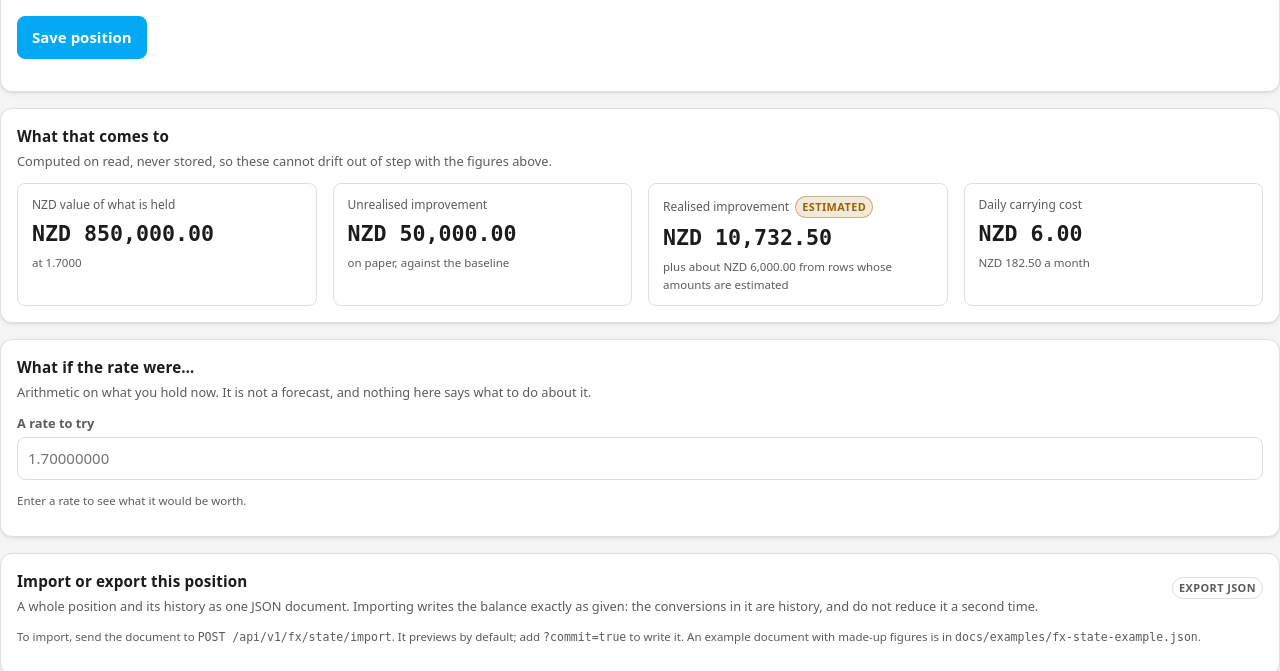
the rate what-if › multiplies exactly, without going through a float
(page scrolled)
Type "1.7504" into the field labelled "A rate to try" at (640, 458), box [17,437,1263,480]
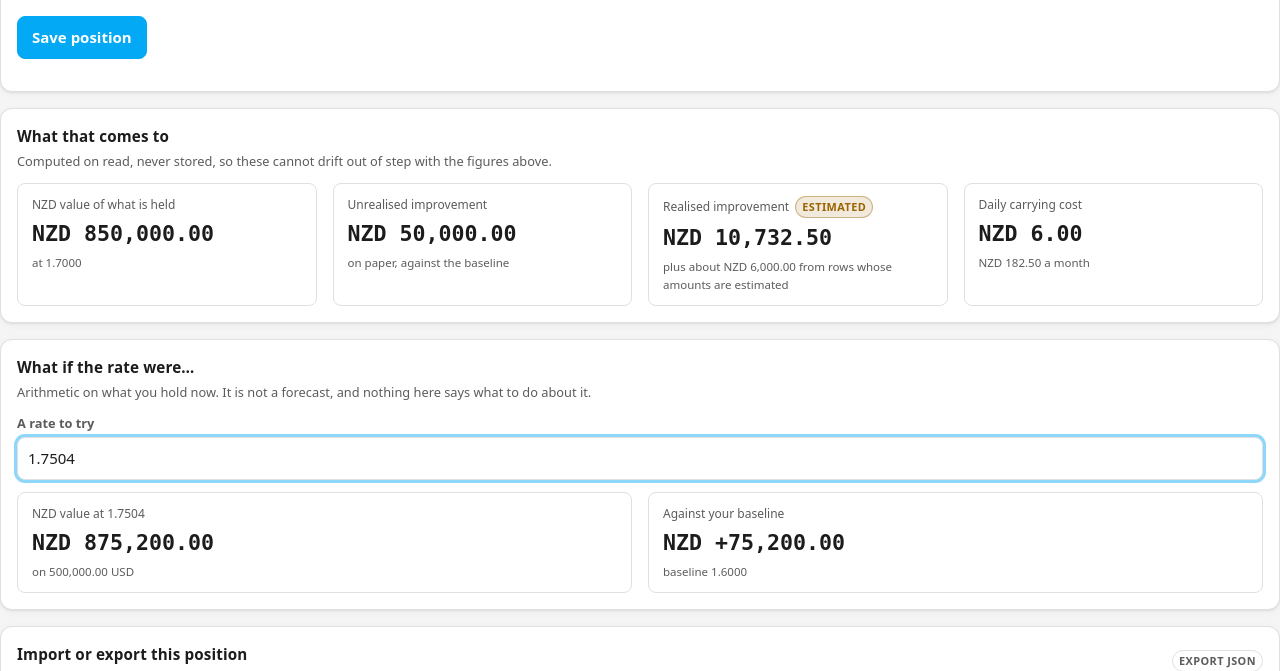
Expected: the text "NZD 875,200.00" is shown, [32,530,214,555]
Expected: the text "NZD +75,200.00" is shown, [663,530,845,555]
